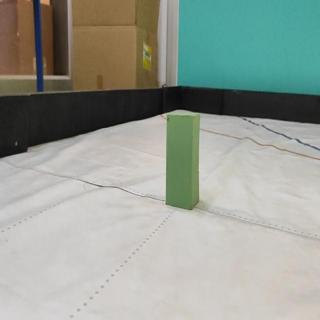greenbox: (166, 111, 200, 210)
